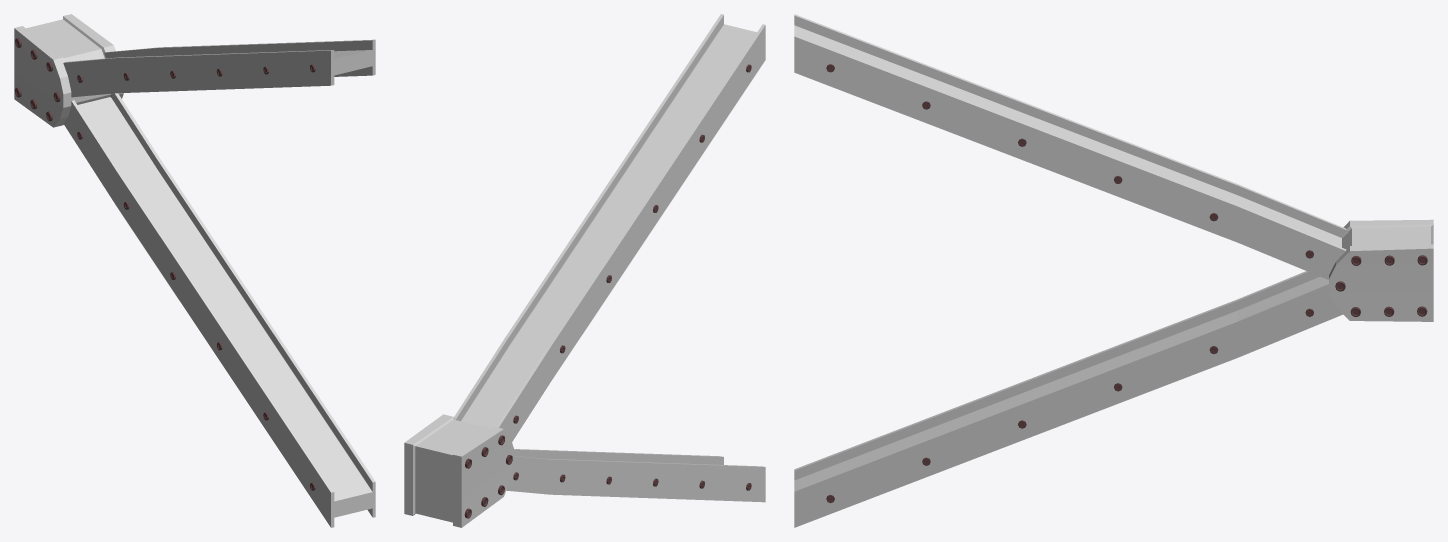
Rendered from Bridge Pole Side.fbx.
The picture shows the model from 3 angles, left to right: view 1: azimuth 30°, elevation 25°; view 2: azimuth 150°, elevation 25°; view 3: azimuth 270°, elevation 25°; orthographic projection. The views are drawn at different scales.
Parts seen in each view (by area): view 1: Side Bridge.001; view 2: Side Bridge.001; view 3: Side Bridge.001.
Boxes of the visible parts, x1,y1,x2,y2 form: Side Bridge.001: (14, 14, 375, 527); Side Bridge.001: (404, 14, 765, 527); Side Bridge.001: (794, 14, 1433, 527).
Size of the model in its own units: 197 by 1391 by 1640.
